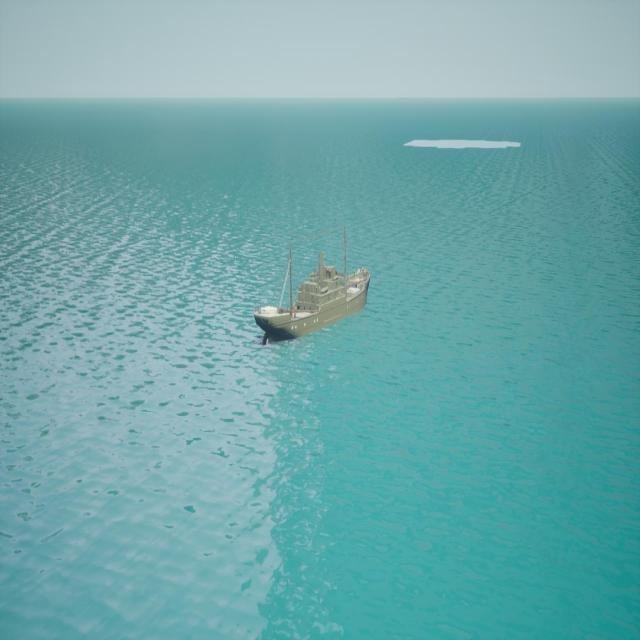fishing ship: (255, 232, 371, 345)
